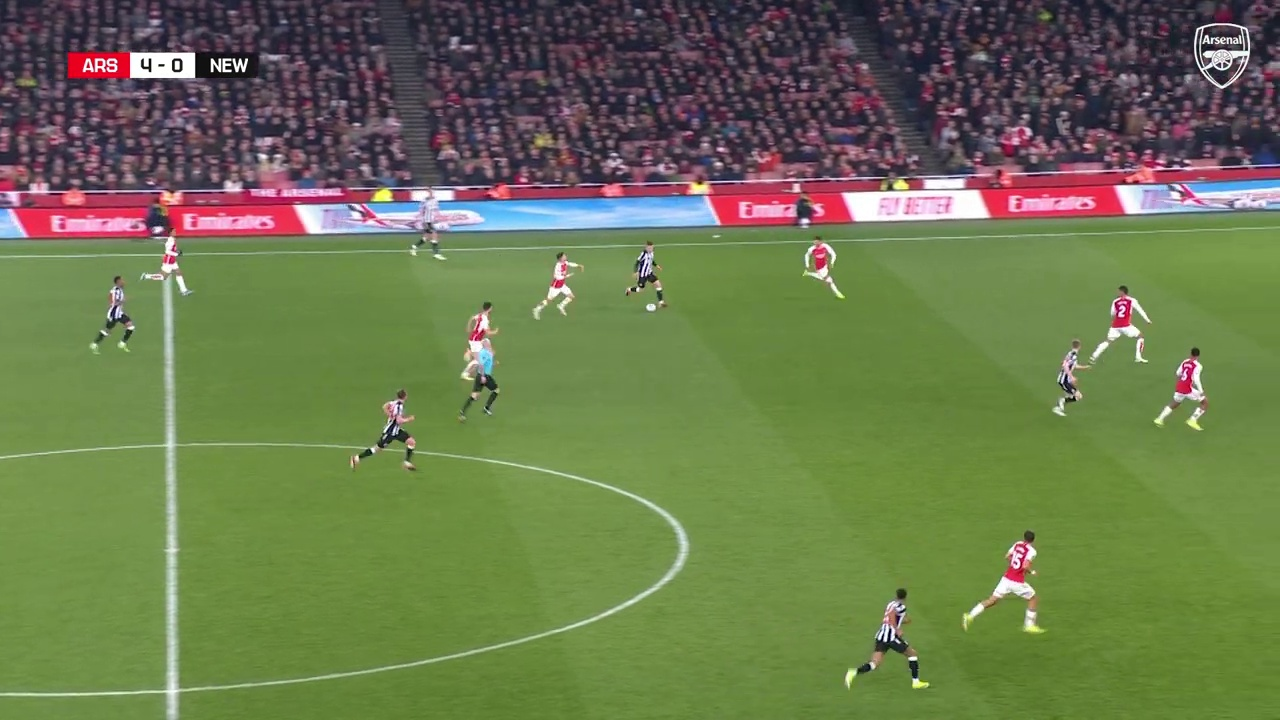ball: (697, 302, 719, 323)
